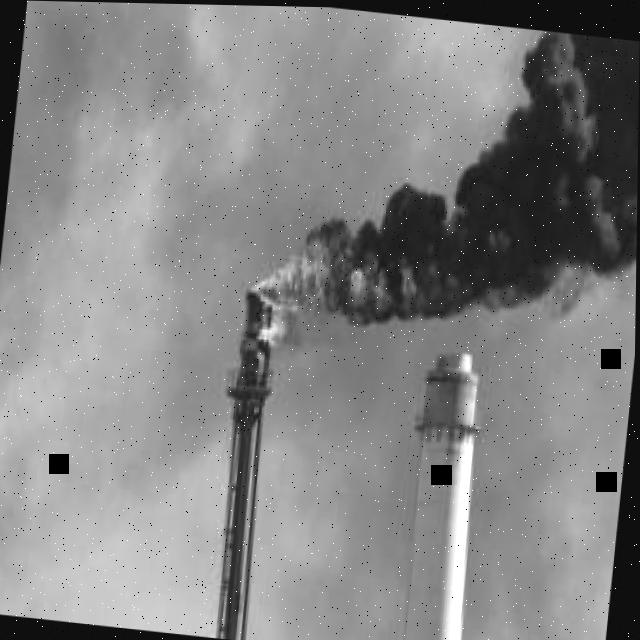fire: (250, 220, 471, 342)
smoke: (0, 0, 540, 594), (266, 258, 637, 640), (353, 28, 640, 319)
